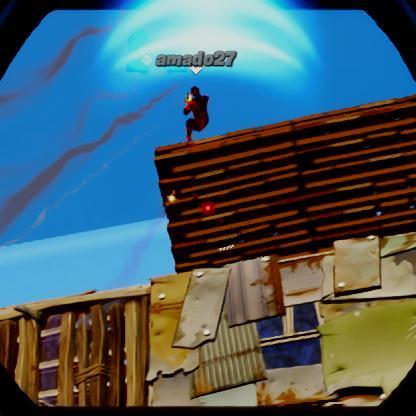person: (182, 87, 204, 136)
